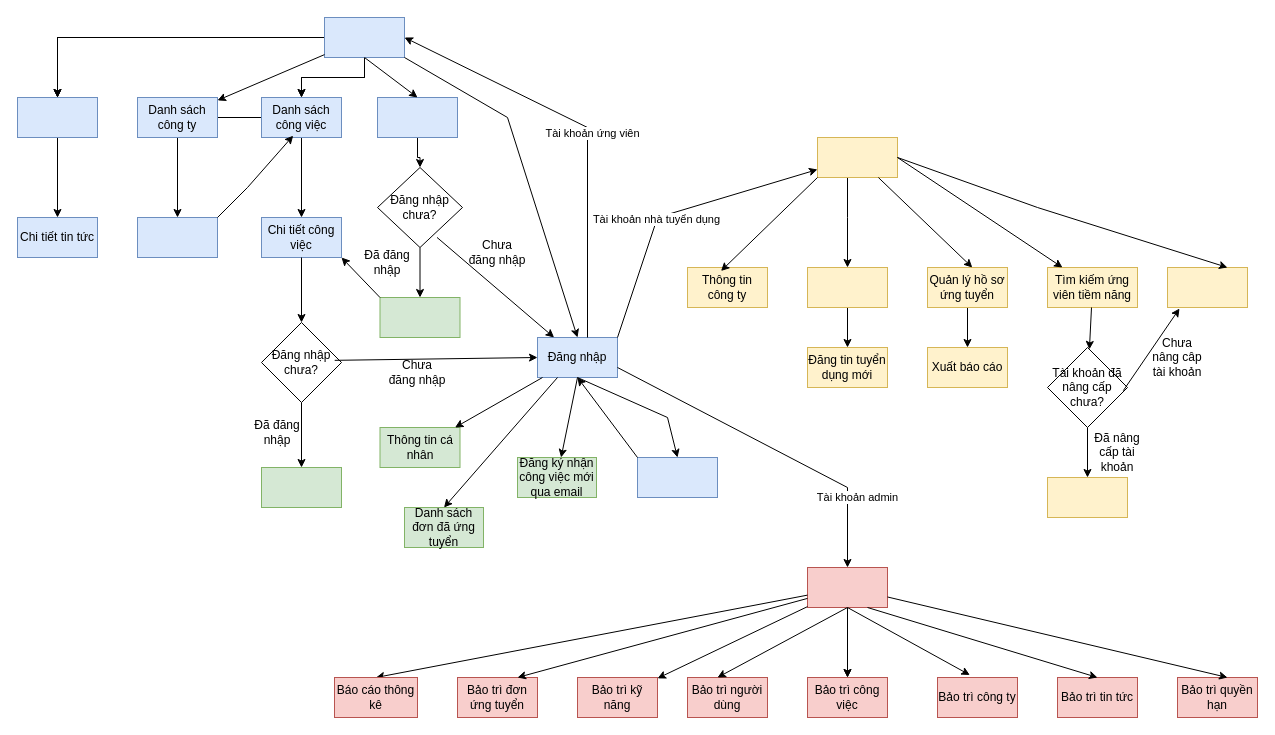
This 1275x735 diagram has some shape labels left out. Here are the shapes that lost their labels. From the top down, the box of each, then its label:
(324, 16, 404, 58): Trang chủ
(16, 96, 98, 138): Danh sách tin tức
(376, 96, 458, 138): Tìm công việc phù hợp
(816, 136, 898, 178): Trang chủ nhà tuyển dụng
(136, 216, 218, 258): Chi tiết công ty
(806, 266, 888, 308): Quản lý tin tuyển dụng
(1166, 266, 1248, 308): Nâng cấp tài khoản
(379, 296, 460, 338): Danh sách công việc đề xuất
(260, 466, 342, 508): Ứng tuyển công việc
(636, 456, 718, 498): Đăng ký
(1046, 476, 1128, 518): Danh sách ứng viên tiềm năng
(806, 566, 888, 608): Trang chủ admin
